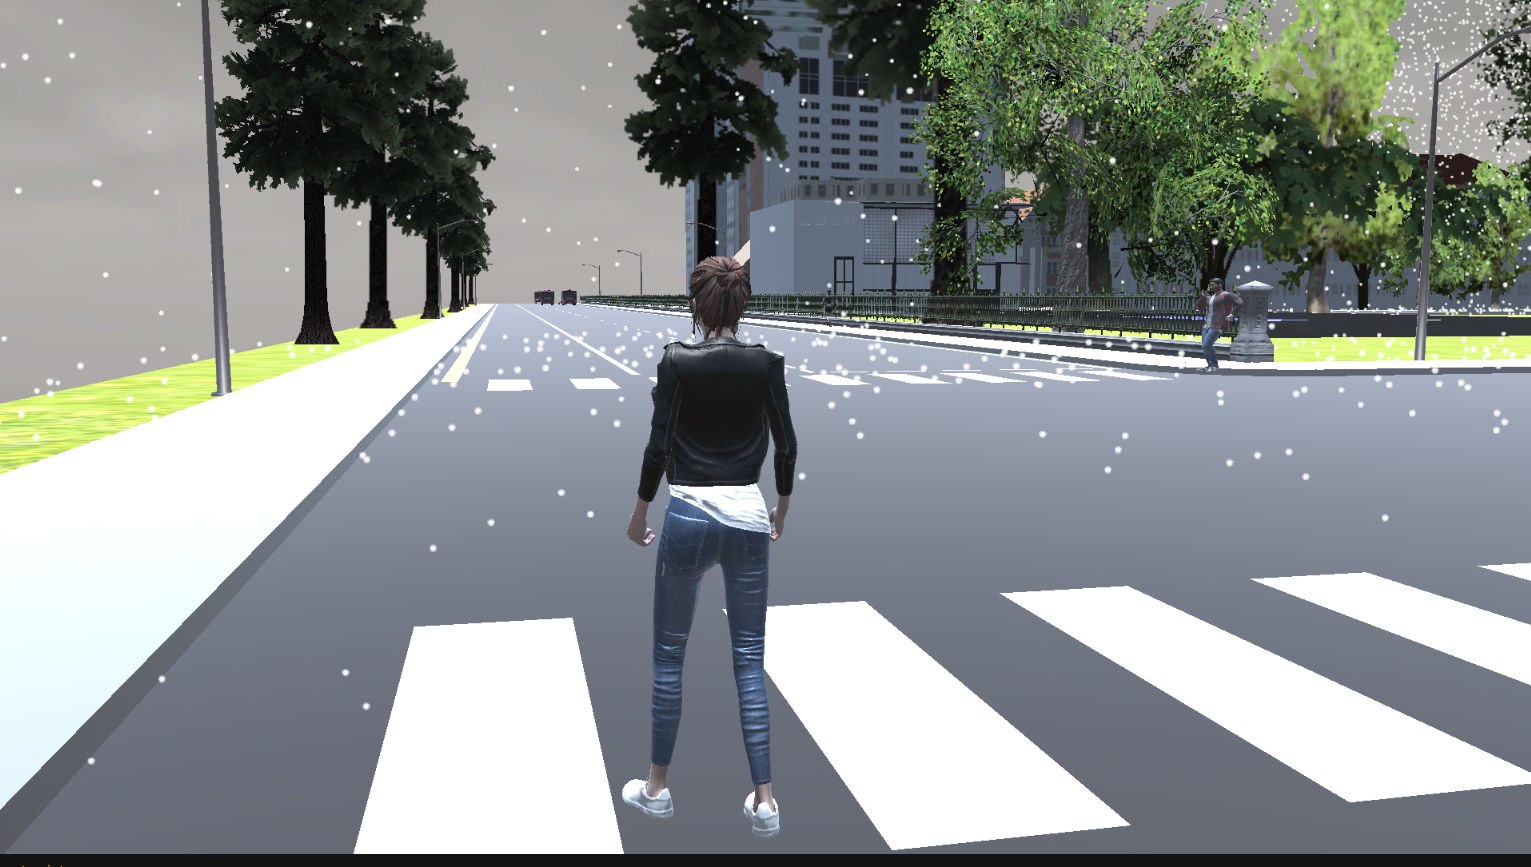pedestrian: (614, 247, 815, 841), (1183, 267, 1239, 380)
